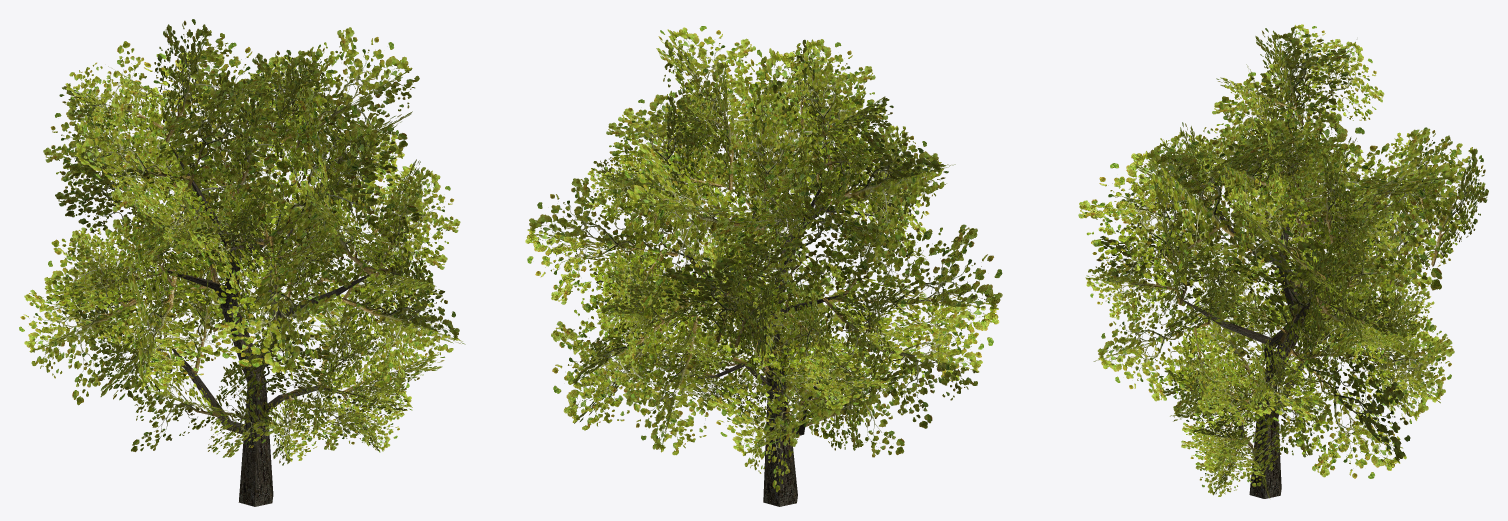
Rendered from tree_d.FBX.
3 views of the same model, side by side, from view 1: azimuth 30°, elevation 25°; view 2: azimuth 150°, elevation 25°; view 3: azimuth 270°, elevation 25° (orthographic). The views are drawn at different scales.
Parts seen in each view (by area): view 1: tree_d; view 2: tree_d; view 3: tree_d.
Part boxes in pixels (bbox=[...]): tree_d: bbox=[19, 19, 465, 506]; tree_d: bbox=[525, 26, 1002, 506]; tree_d: bbox=[1078, 24, 1488, 498].
Size of the model in its own units: 15.52 by 16.2 by 14.19.
Materials: 2 (2 with a texture image).
